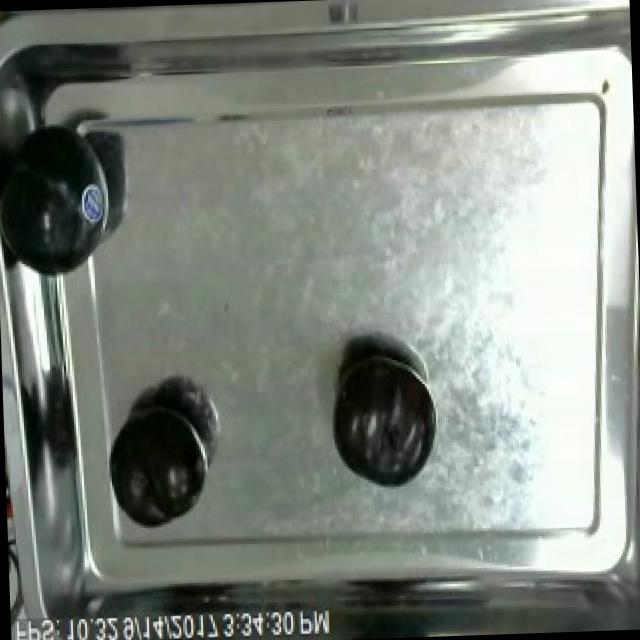Fruit: (0, 113, 139, 294), (325, 341, 438, 496), (102, 393, 214, 531)
